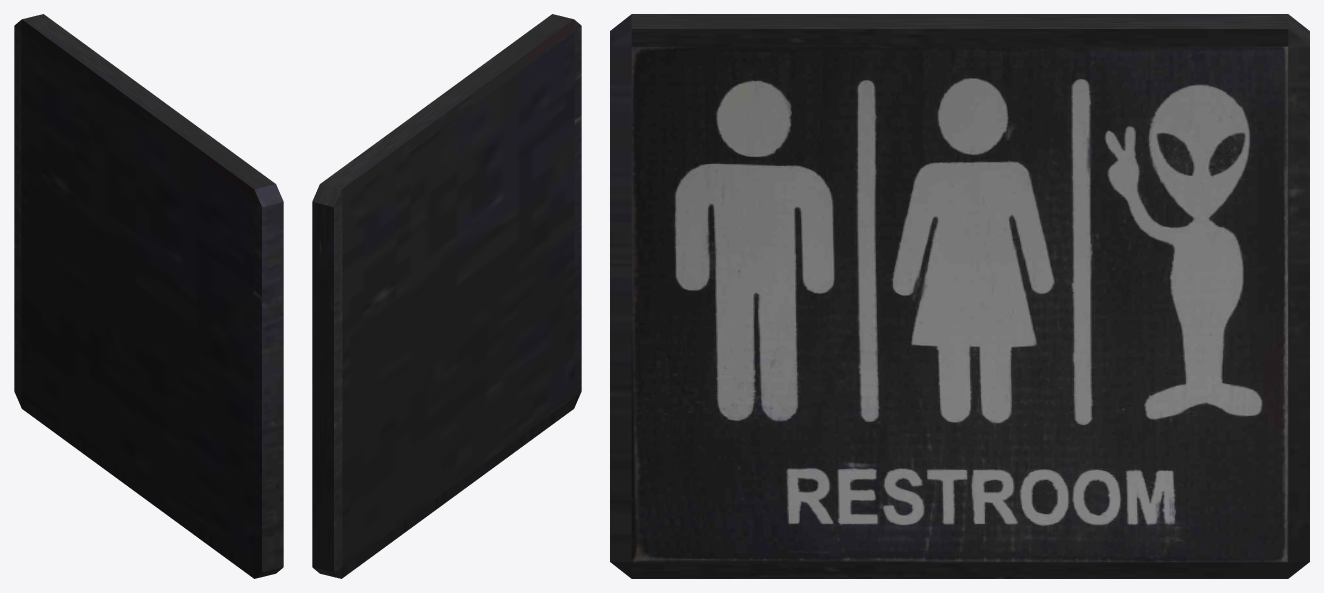
The model's file is alien-gender.glb.
3 renders of one model, left to right at view 1: azimuth 30°, elevation 25°; view 2: azimuth 150°, elevation 25°; view 3: azimuth 270°, elevation 25°, orthographic. The views are drawn at different scales.
Parts seen in each view (by area): view 1: alien-gender; view 2: alien-gender; view 3: alien-gender.
Part boxes in pixels (x1=…): alien-gender: x1=14, y1=14, x2=283, y2=578; alien-gender: x1=312, y1=14, x2=581, y2=578; alien-gender: x1=610, y1=14, x2=1309, y2=578.
Size of the model in its own units: 0.0938 by 1.51 by 1.74.
1 material, 1 textured.
